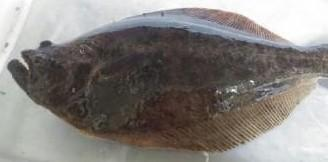fish: (7, 8, 327, 154)
